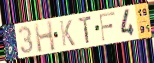3: (17, 25, 34, 56)
4: (119, 7, 138, 39)
F: (99, 11, 117, 43)
H: (32, 19, 57, 54)
K: (59, 19, 77, 48)
T: (78, 15, 93, 45)
